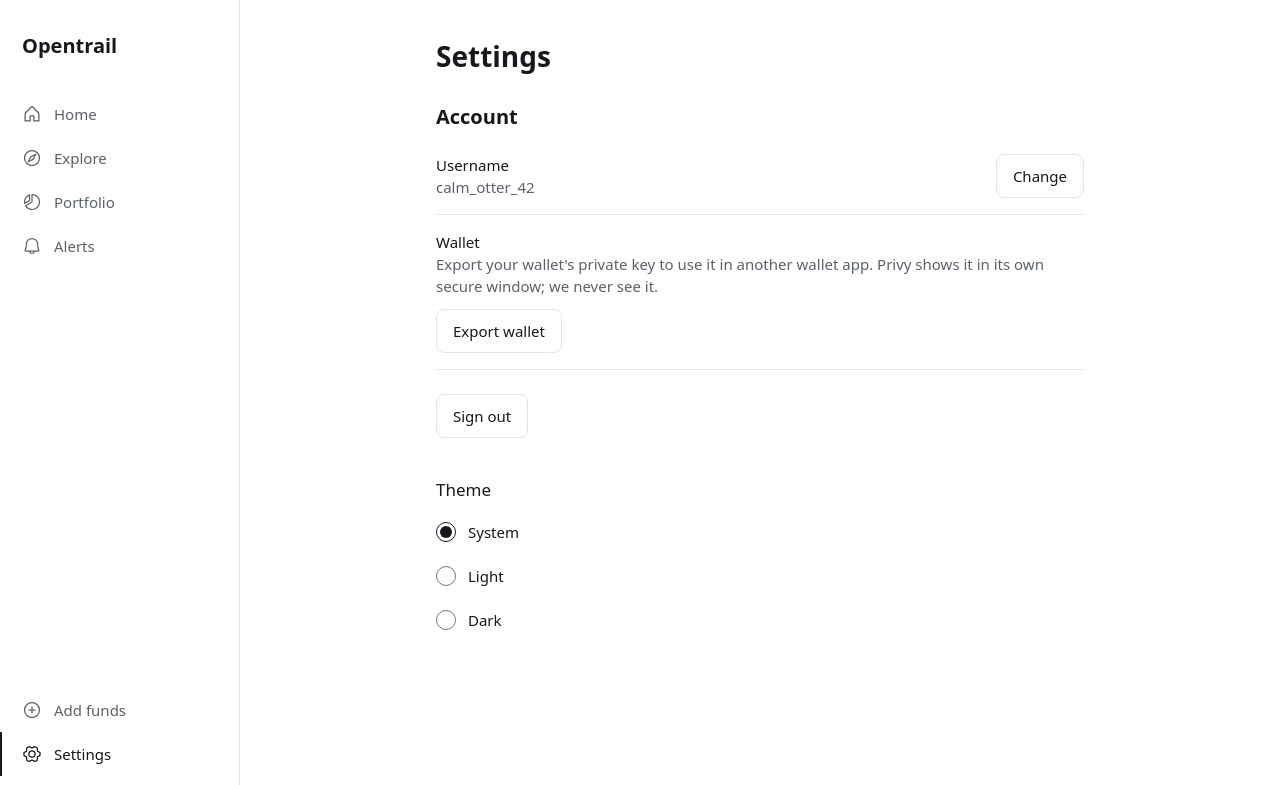
Test case: the Account section › changes the username, then shows when it can change again
The width and height of the screenshot is (1280, 785).
Click the button "Change". click: [1040, 176]
box: [996,154,1084,198]
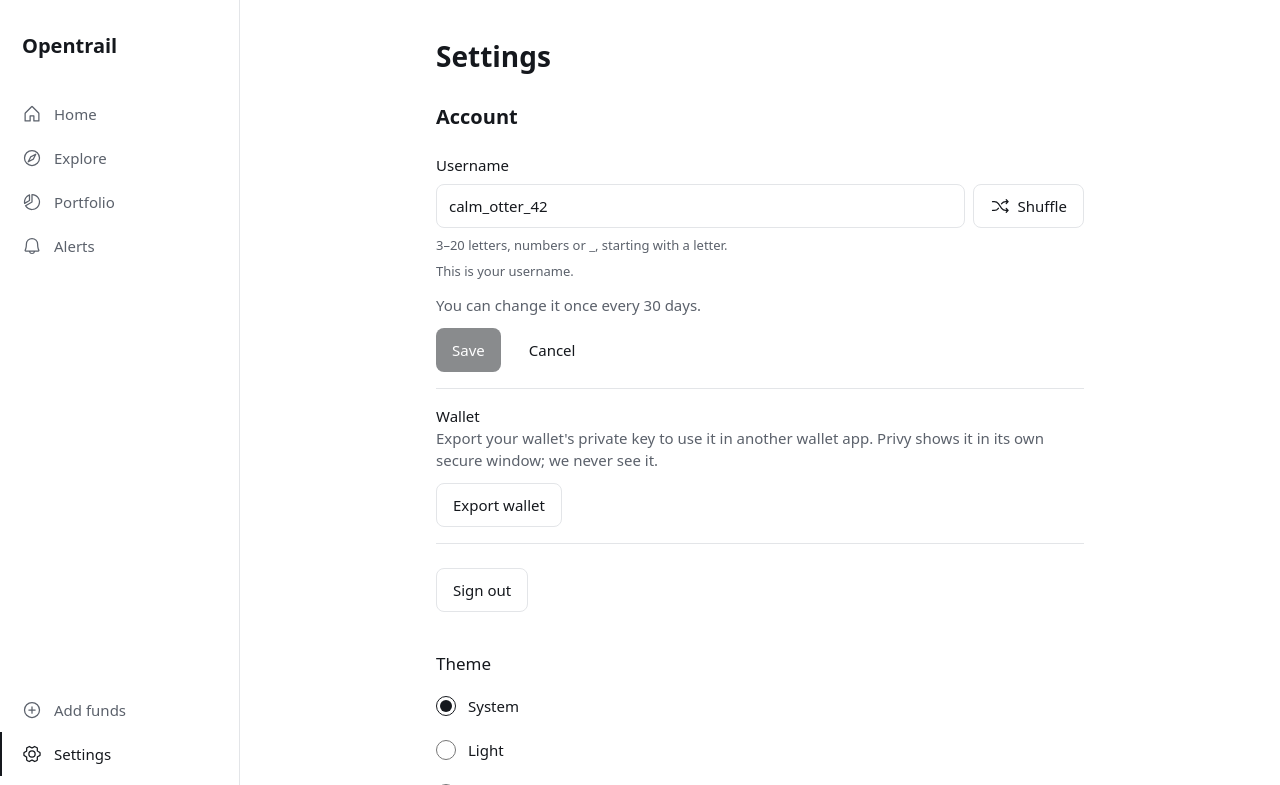
Expected: the field labelled "Username" holds "calm_otter_42"
Replace the text in the field labelled "Username" with "Maya". click: [700, 206]
box: [436,184,965,228]
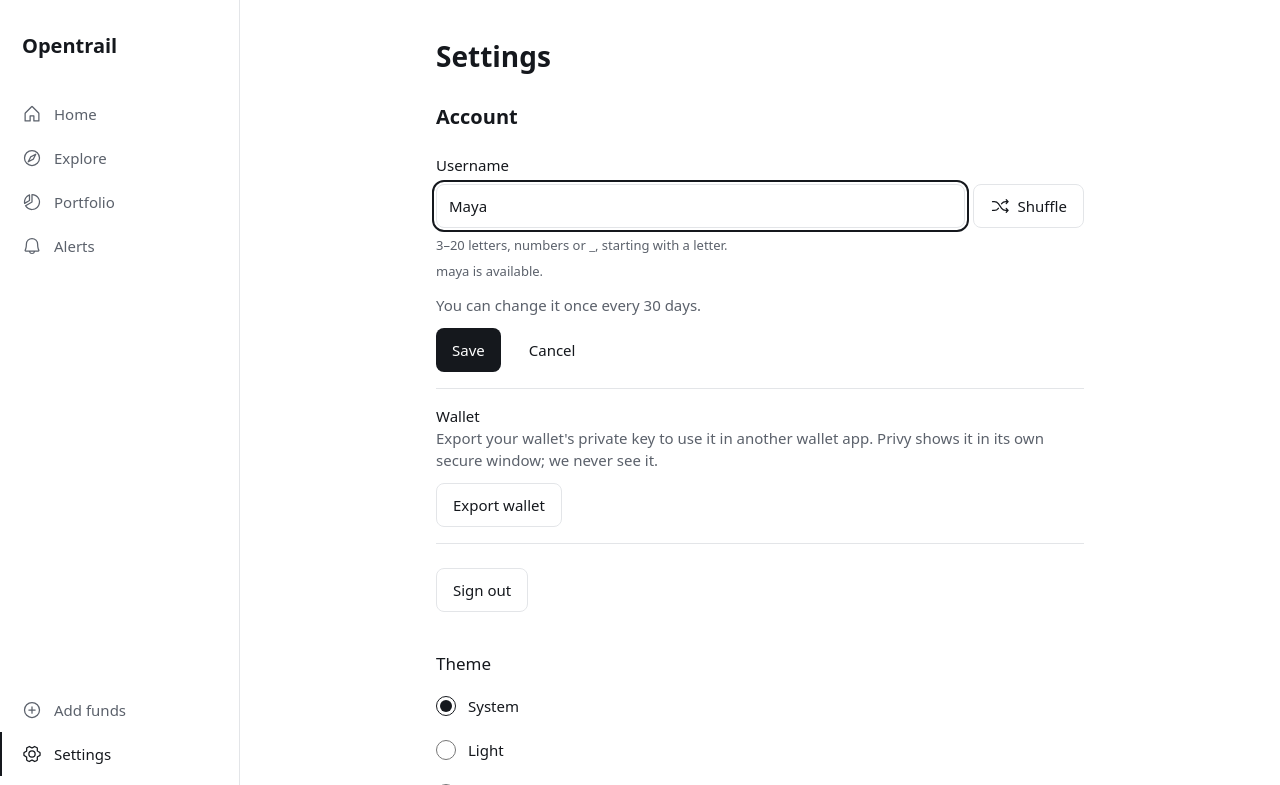
Expected: the text "maya is available." is shown, [436,262,543,280]
Click the button "Save". click: [468, 350]
box: [436,328,501,372]
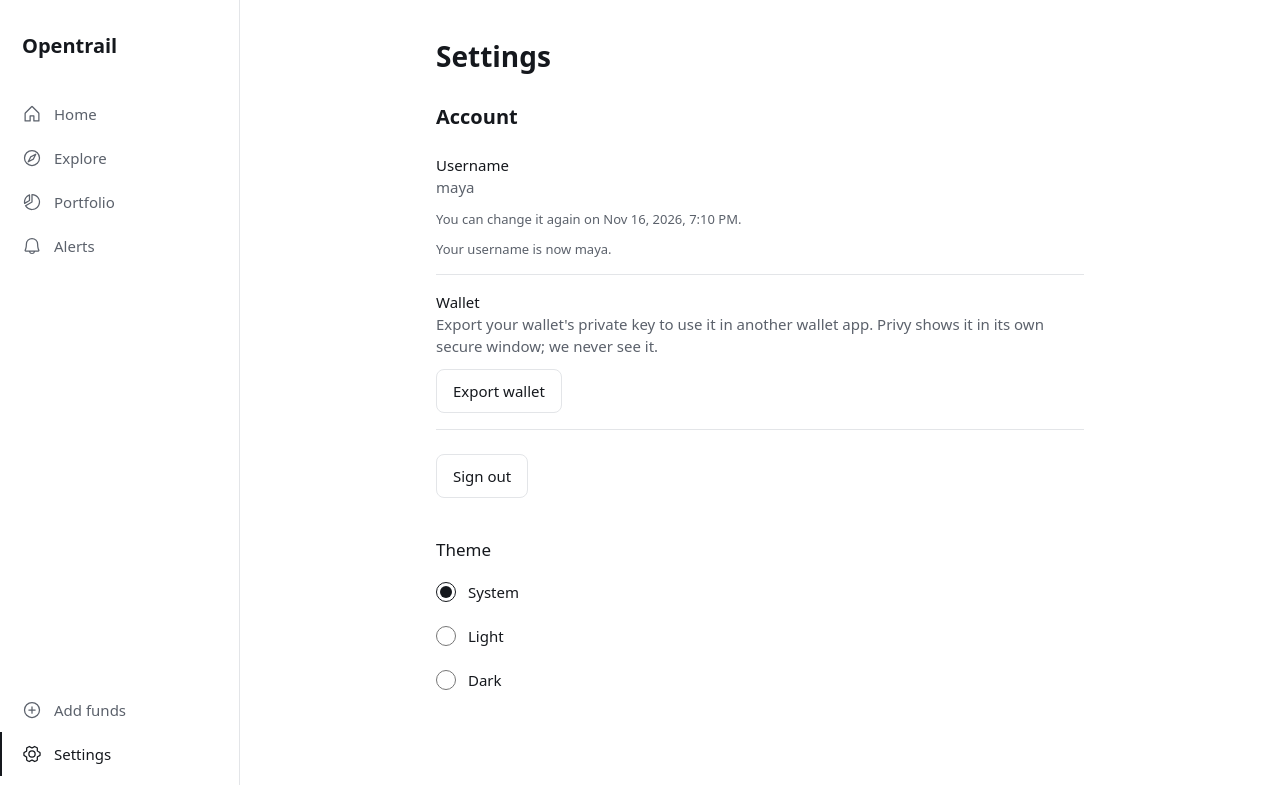
Expected: the text "Your username is now maya." is shown, [436,240,612,258]
Expected: the text "maya" is shown, [436,177,474,197]
Expected: the text "You can change it again on Nov 16, 2026, 7:10 PM." is shown, [436,210,742,228]
